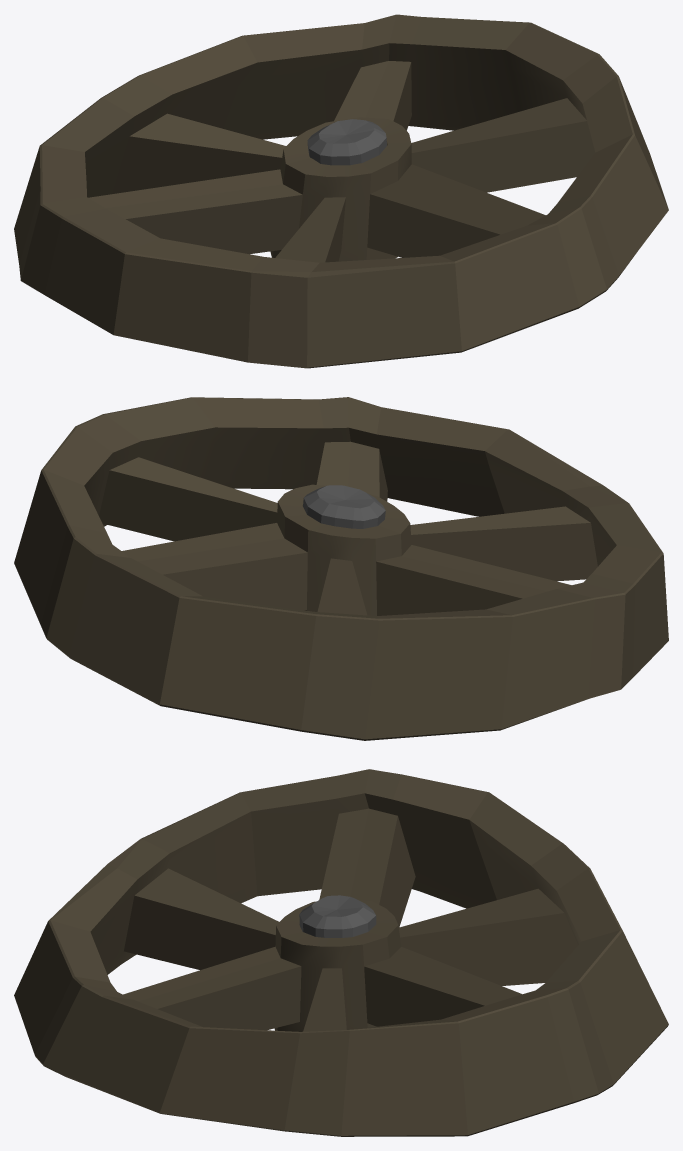
File: I_Wheel.fbx
3 views of the same model, one above another, from view 1: azimuth 30°, elevation 25°; view 2: azimuth 150°, elevation 25°; view 3: azimuth 270°, elevation 25° (orthographic). The views are drawn at different scales.
Visible parts, largest first — view 1: I_Wheel; view 2: I_Wheel; view 3: I_Wheel.
Boxes of the visible parts, x1,y1,x2,y2 form: I_Wheel: [14, 14, 668, 368]; I_Wheel: [14, 397, 668, 740]; I_Wheel: [14, 769, 668, 1136].
Bounding box in the file's own units: 3.21 × 0.6876 × 2.92.
